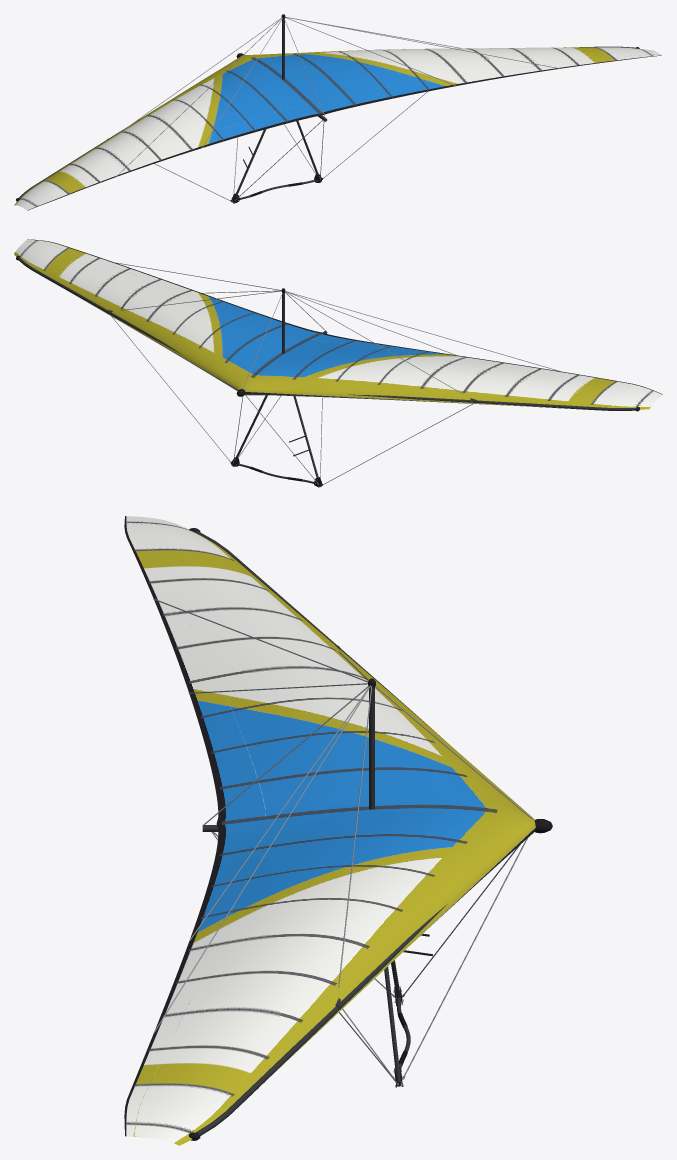
File: glider_bautek_astir.glb
3 views of the same model, one above another, from view 1: azimuth 30°, elevation 25°; view 2: azimuth 150°, elevation 25°; view 3: azimuth 270°, elevation 25° (orthographic). The views are drawn at different scales.
Visible parts, largest first — view 1: Sail, Frame, ControlFrame; view 2: Sail, Frame, ControlFrame; view 3: Sail, Frame, ControlFrame.
Part boxes in pixels (box(x1,y1,x2,y2)): Sail: box(14, 47, 662, 210); Frame: box(16, 14, 639, 201); ControlFrame: box(154, 91, 427, 203); Sail: box(14, 239, 662, 409); Frame: box(16, 255, 639, 411); ControlFrame: box(111, 316, 472, 487); Sail: box(124, 516, 535, 1145); Frame: box(153, 528, 552, 1140); ControlFrame: box(211, 832, 527, 1087).
Bounding box in the file's own units: 10.55 × 2.91 × 3.08.
Materials: 8 (1 with a texture image).
